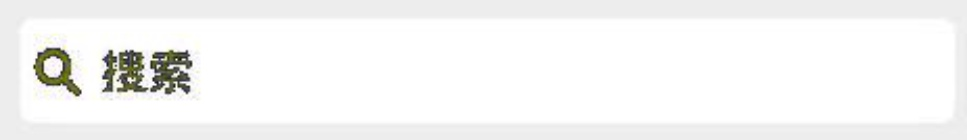EditText: (1, 1, 966, 139)
